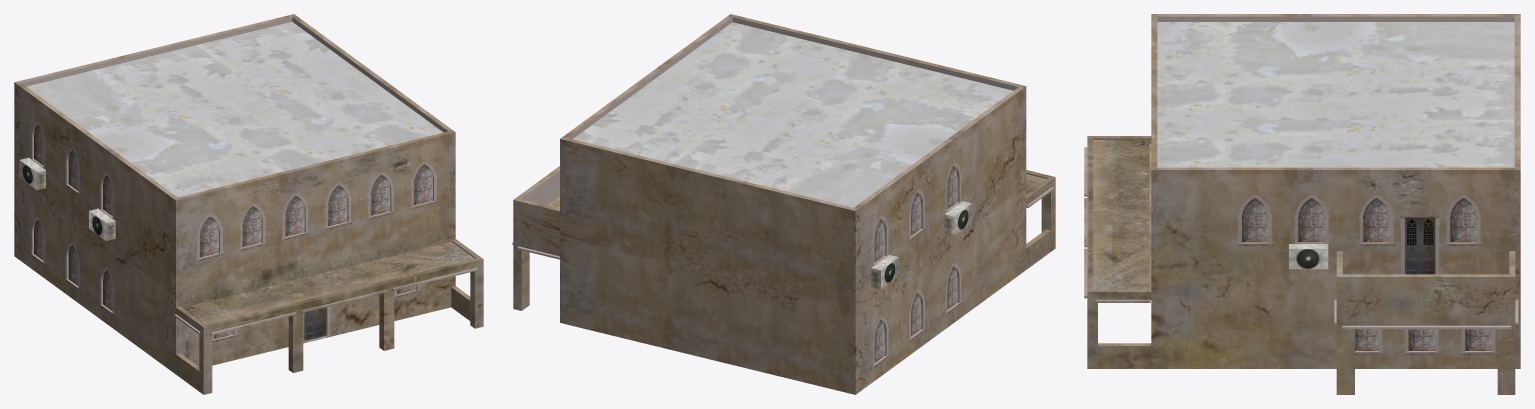
Rendered from AranHouse1_fbx.FBX.
3 renders of one model, left to right at view 1: azimuth 30°, elevation 25°; view 2: azimuth 150°, elevation 25°; view 3: azimuth 270°, elevation 25°, orthographic. The views are drawn at different scales.
Parts seen in each view (by area): view 1: ArabBuild1; view 2: ArabBuild1; view 3: ArabBuild1.
Part boxes in pixels (left/top/right/bottom): ArabBuild1: left=14, top=14, right=483, bottom=394; ArabBuild1: left=512, top=14, right=1055, bottom=394; ArabBuild1: left=1084, top=14, right=1520, bottom=394.
Bounding box in the file's own units: 375 × 184 × 366.
